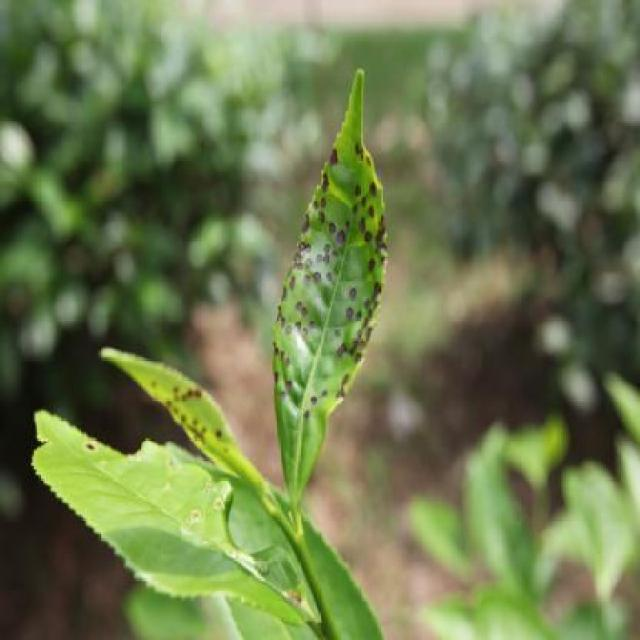Tea Mosquito bug infested leaf: (277, 94, 395, 463), (105, 346, 212, 443)
